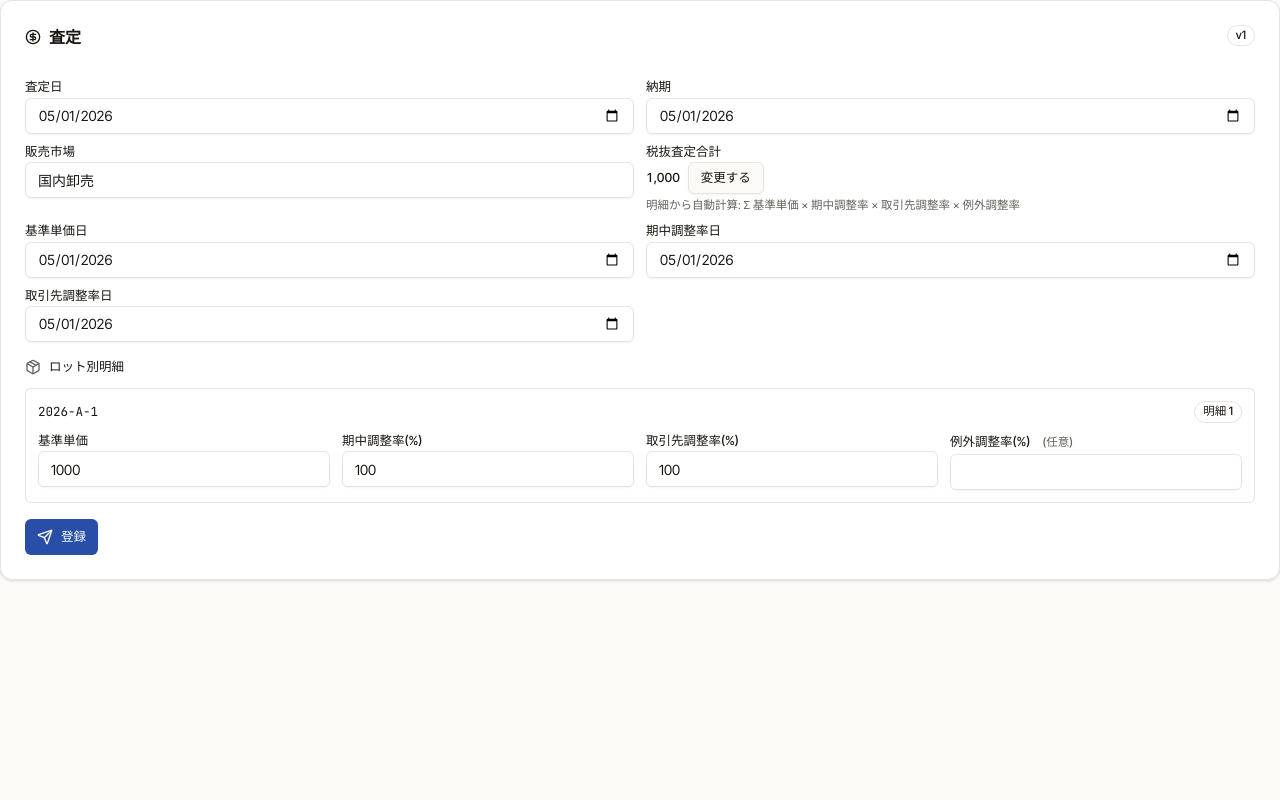
Test: DirectAppraisalForm (FE-COMP-RICH-DA-*) › FE-COMP-RICH-DA-002: 期中調整率 89 (範囲外) → field エラー、API 未呼出
Step 1. Replace the text in the number field labelled "期中調整率(%)" with "89" → (488, 469), box [342,451,634,487]
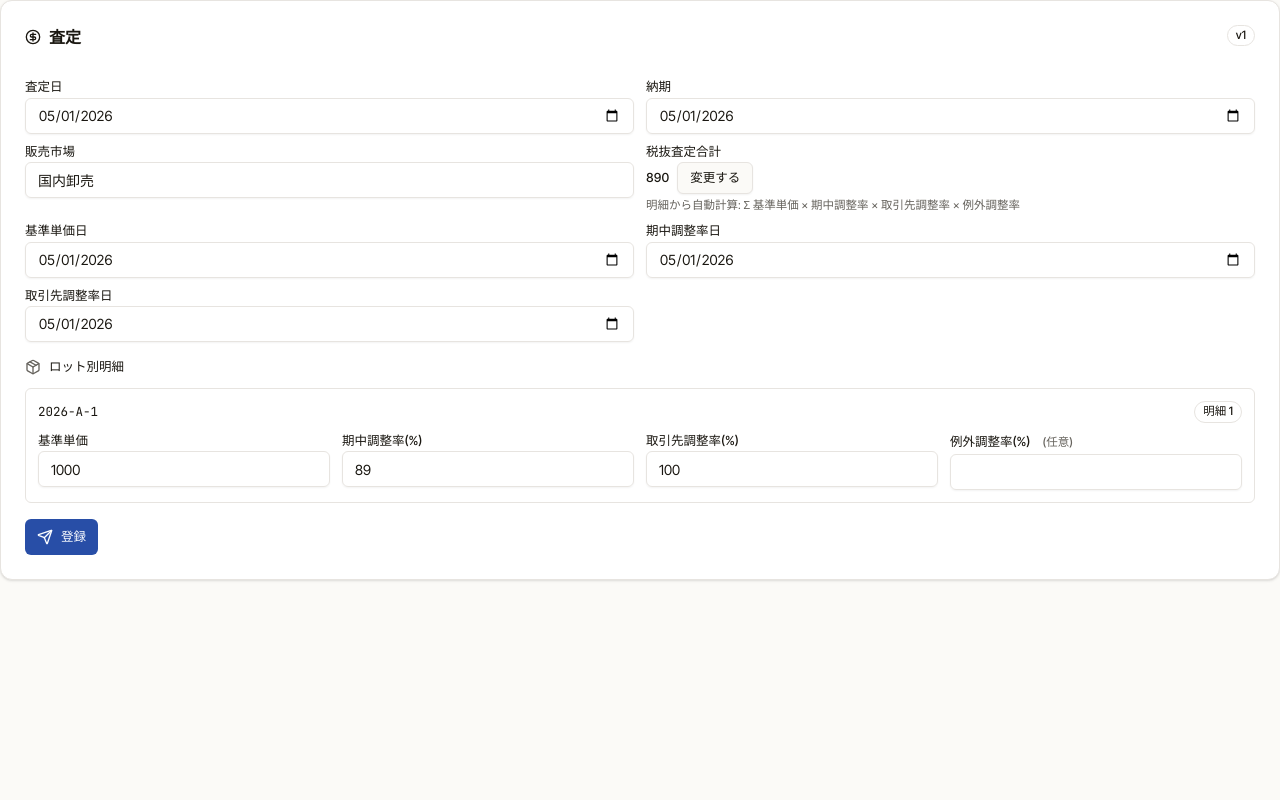
Step 2. Submit the form named "登録", box [25,81,1255,555]
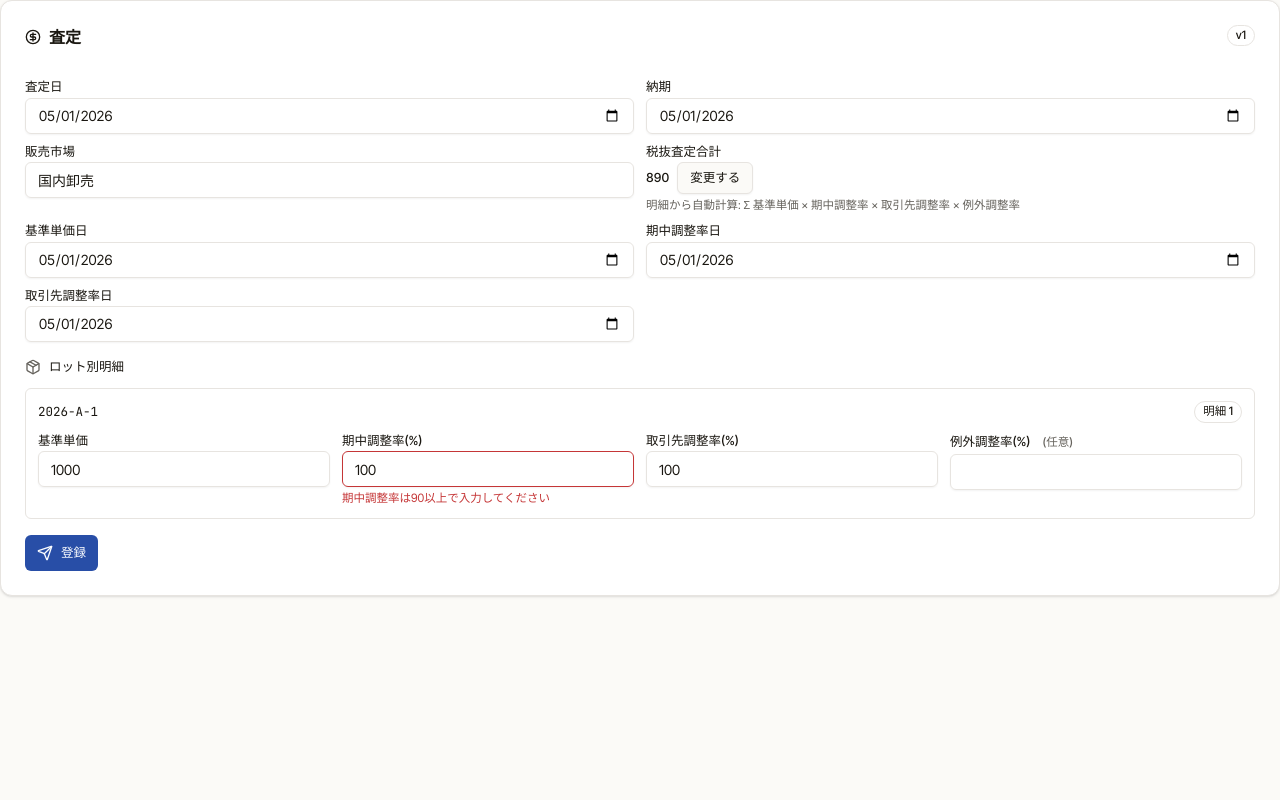
Expected: the text "期中調整率は90以上で入力してください" is shown, [342,491,550,505]
